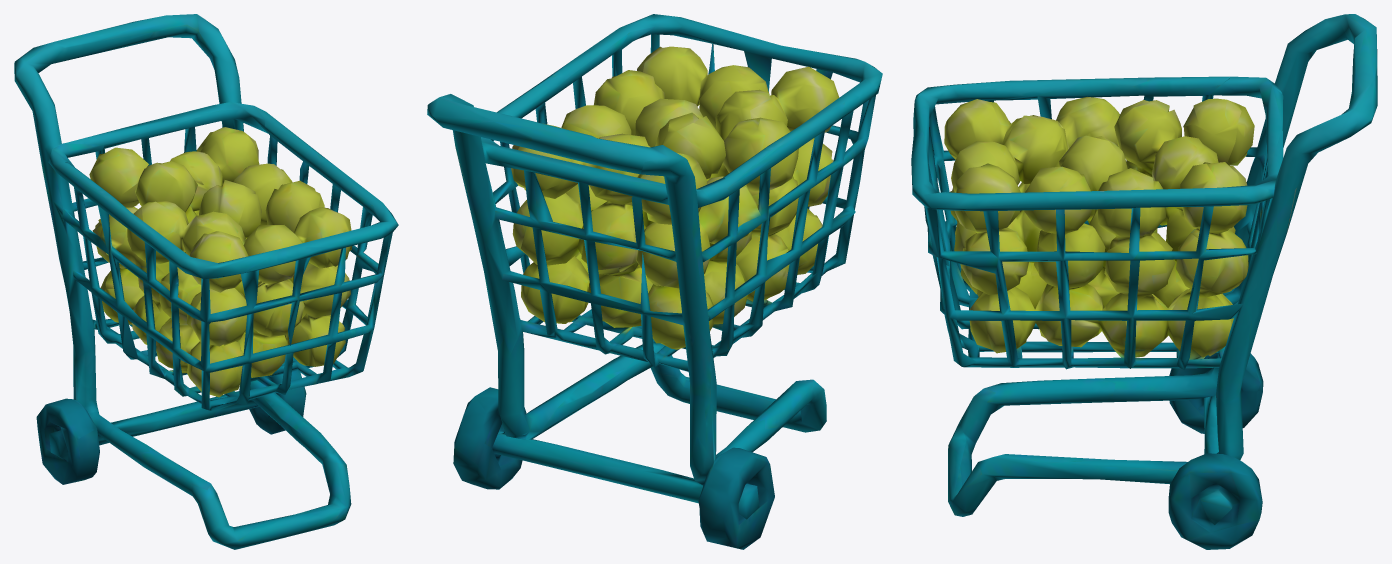
Rendered from cart.glb.
3 renders of one model, left to right at view 1: azimuth 30°, elevation 25°; view 2: azimuth 150°, elevation 25°; view 3: azimuth 270°, elevation 25°, orthographic. The views are drawn at different scales.
Visible parts, largest first — view 1: tripo_node_ad608c83-9ba6-4c53-a00e-adf9cfe81543; view 2: tripo_node_ad608c83-9ba6-4c53-a00e-adf9cfe81543; view 3: tripo_node_ad608c83-9ba6-4c53-a00e-adf9cfe81543.
Boxes of the visible parts, <box> form: tripo_node_ad608c83-9ba6-4c53-a00e-adf9cfe81543: <box>14,14,398,549</box>; tripo_node_ad608c83-9ba6-4c53-a00e-adf9cfe81543: <box>427,14,882,549</box>; tripo_node_ad608c83-9ba6-4c53-a00e-adf9cfe81543: <box>911,14,1377,549</box>.
Size of the model in its own units: 0.6466 by 1 by 0.9828.
1 material, 1 textured.
